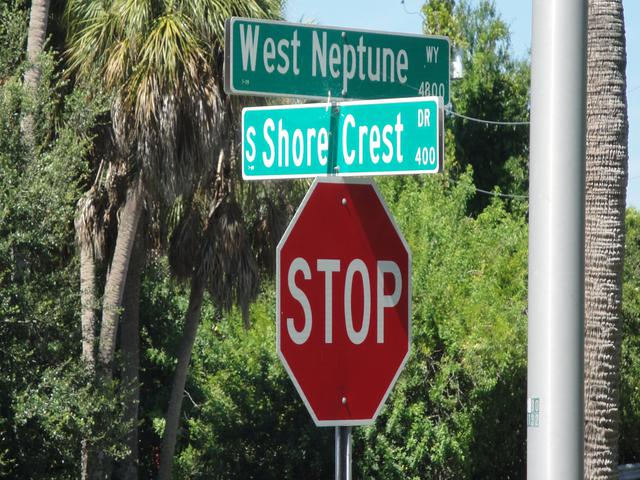autre: (219, 13, 455, 178)
stop: (273, 178, 415, 429)
